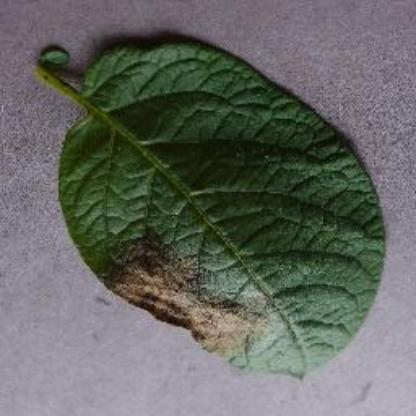Late-Blight: (26, 28, 390, 394)
